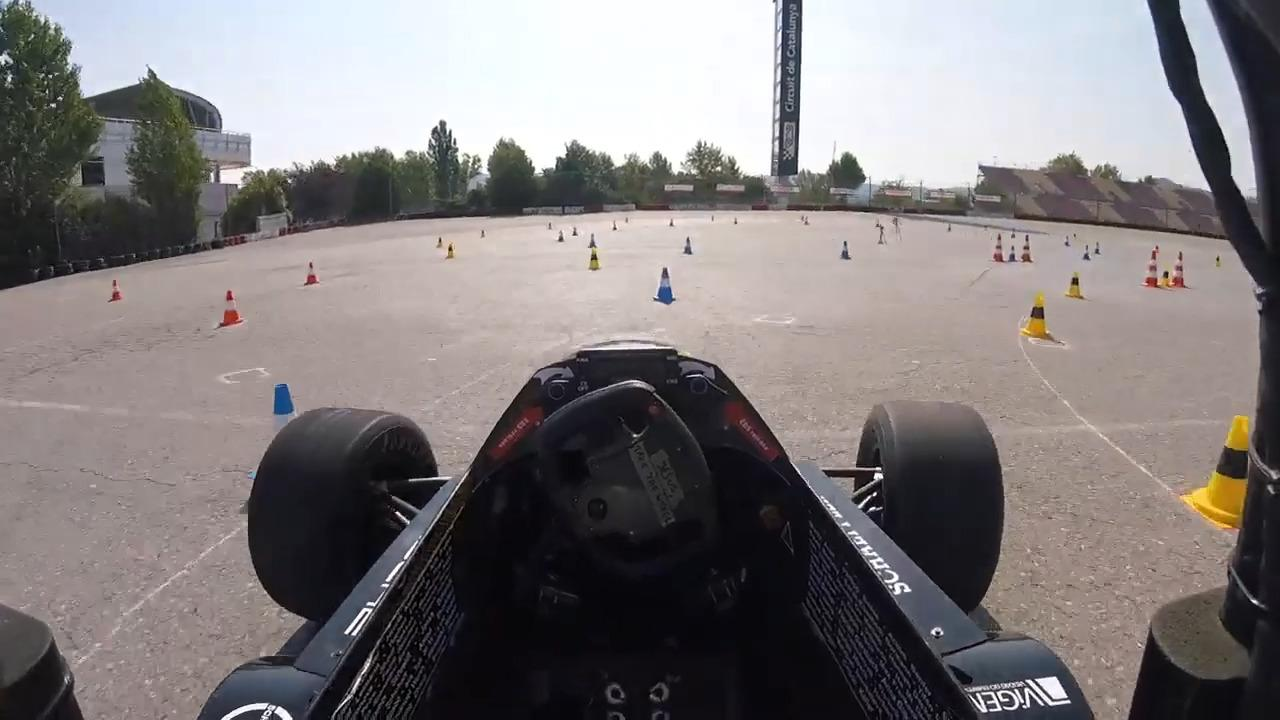blue_cone: (243, 378, 327, 495), (652, 266, 678, 307), (837, 240, 853, 261), (681, 235, 694, 256), (1006, 244, 1017, 263), (1081, 243, 1092, 261)
large_orange_cone: (1142, 250, 1161, 289), (1170, 250, 1188, 289), (989, 232, 1006, 263), (1018, 232, 1033, 264)
orange_cone: (215, 289, 247, 329), (302, 261, 321, 287), (108, 276, 124, 303)
yellow_cone: (1181, 413, 1268, 534), (1019, 293, 1053, 341), (1063, 271, 1086, 300), (585, 246, 604, 272), (1159, 262, 1172, 290), (445, 241, 456, 261), (435, 233, 445, 250)
